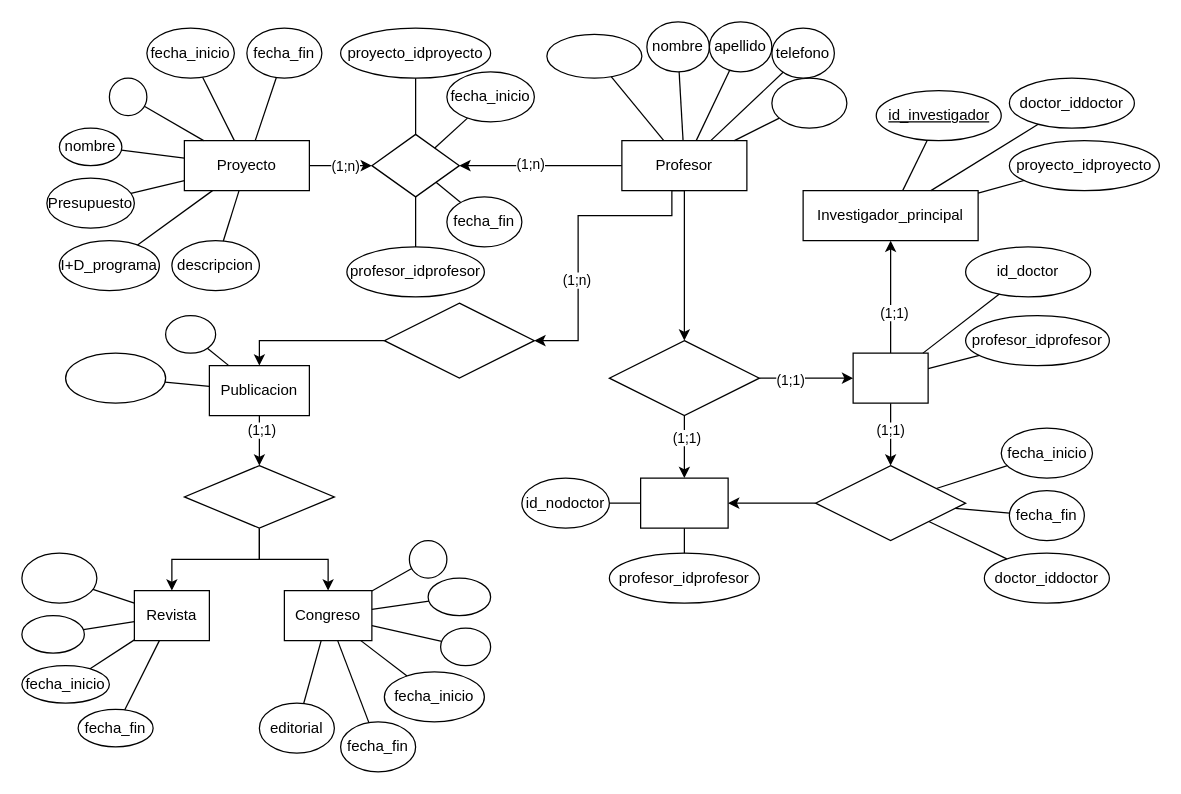
The diagram is 1181 pixels wide and 794 high, and some of its shapes have lost their labels. The centre of each missing label's shape, as x and y in pixels:
"ciudad" belongs at [459,596].
"codigo_unico" belongs at [115,377].
"despacho" belongs at [809,102].
"Doctor" belongs at [890,377].
"id" belongs at [127,96].
"id_profesor" belongs at [594,55].
"No-Doctor" belongs at [683,502].
"numero" belongs at [52,633].
"pais" belongs at [465,646].
"puede escribir" belongs at [458,340].
"puede ser" belongs at [683,377].
"que son de" belongs at [258,496].
"supervisa" belongs at [890,502].
"tipo" belongs at [427,558].
"titulo" belongs at [190,333].
"trabajan" belongs at [415,165].
"volumen" belongs at [59,577].
